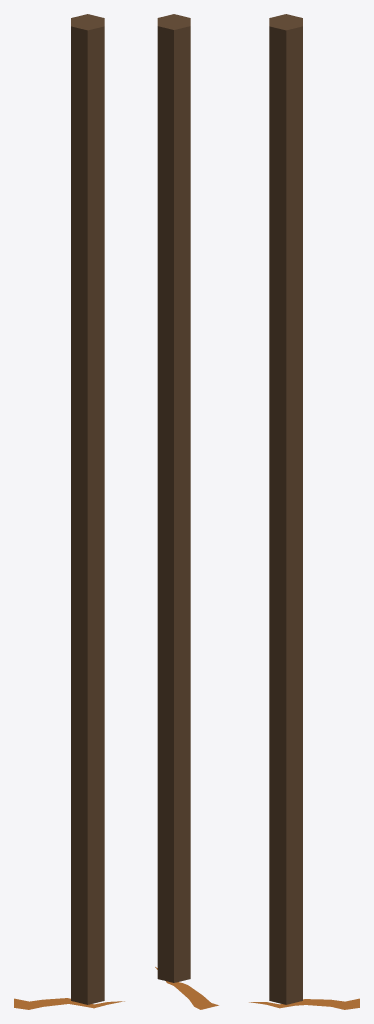
The model's file is windflag.fbx.
The picture shows the model from 3 angles, left to right: view 1: azimuth 90°, elevation 25°; view 2: azimuth 210°, elevation 25°; view 3: azimuth 270°, elevation 25°; orthographic projection. The views are drawn at different scales.
Visible parts, largest first — view 1: pCylinder1, polySurface1; view 2: pCylinder1, polySurface1; view 3: pCylinder1, polySurface1.
Boxes of the visible parts, x1,y1,x2,y2 form: pCylinder1: (71, 14, 104, 1004); polySurface1: (14, 998, 124, 1009); pCylinder1: (157, 14, 190, 982); polySurface1: (155, 967, 218, 1009); pCylinder1: (269, 14, 302, 1004); polySurface1: (249, 998, 359, 1009).
Size of the model in its own units: 0.498 by 13.89 by 1.43.
